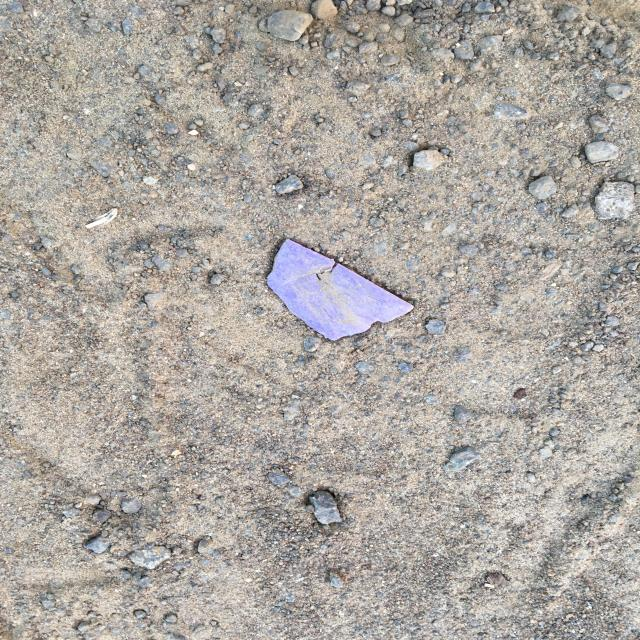litter: (396, 198, 535, 308)
